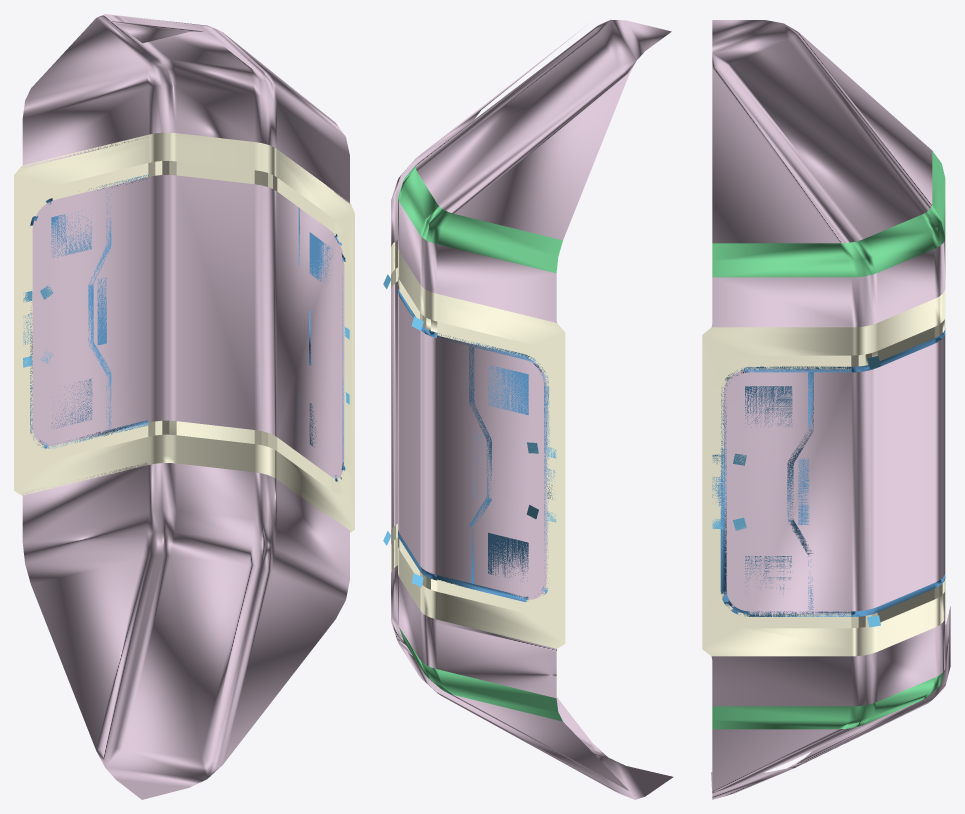
Rendered from ext_roomsm_wall_cornerout_02x02x04_addon_a.glb.
3 renders of one model, left to right at view 1: azimuth 30°, elevation 25°; view 2: azimuth 150°, elevation 25°; view 3: azimuth 270°, elevation 25°, orthographic.
Size of the model in its own units: 1.21 by 4.07 by 1.21.
